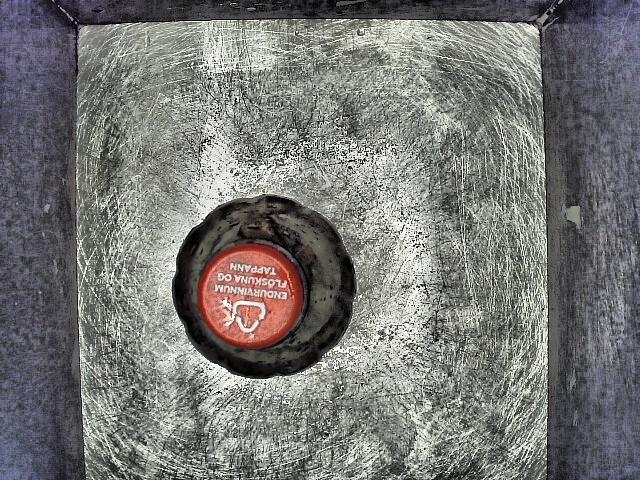Bottles: (154, 191, 401, 410)
